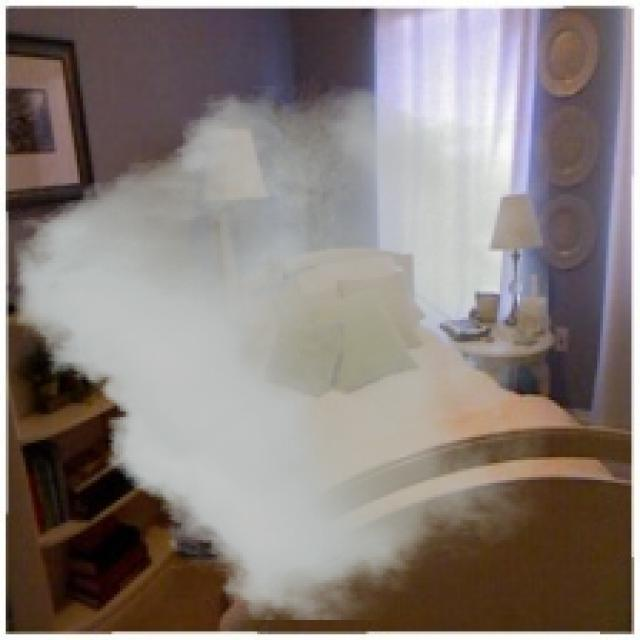Smoke: (14, 85, 549, 620)
